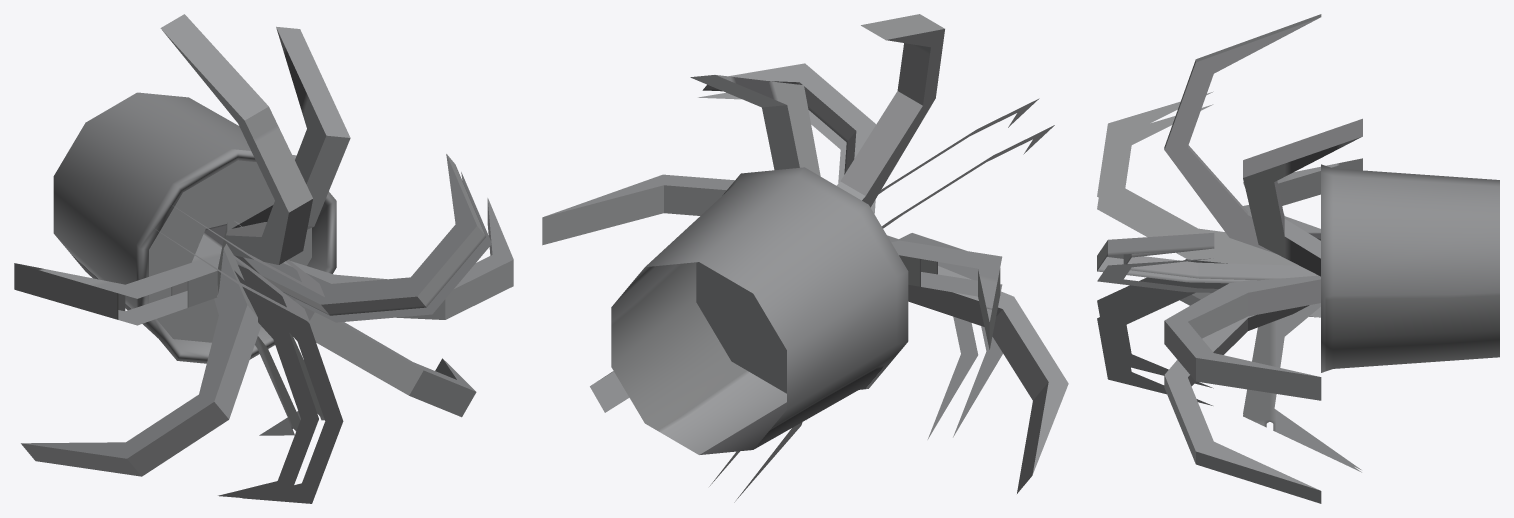
3 renders of one model, left to right at view 1: azimuth 30°, elevation 25°; view 2: azimuth 150°, elevation 25°; view 3: azimuth 270°, elevation 25°, orthographic. The views are drawn at different scales.
Bounding box in the file's own units: 1.01 × 0.9553 × 0.848.
